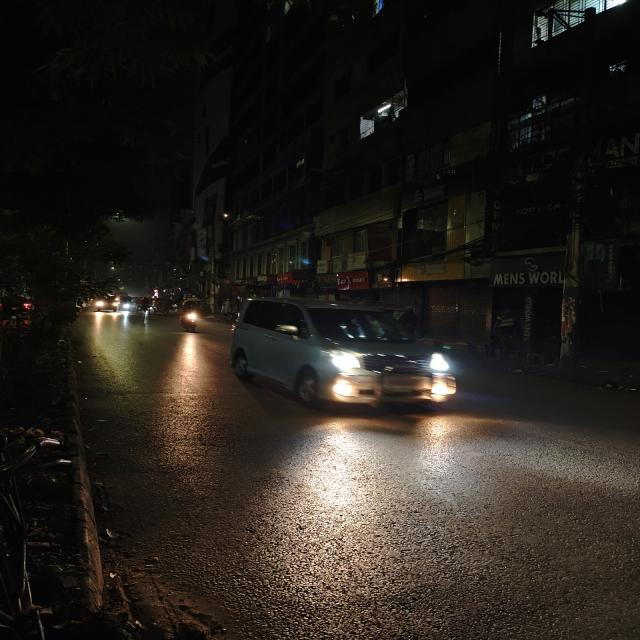car: (224, 286, 457, 423), (96, 293, 118, 314)
motorcycle: (173, 300, 205, 337)
rickshaw: (135, 296, 153, 316), (153, 296, 170, 316), (117, 295, 133, 313)
